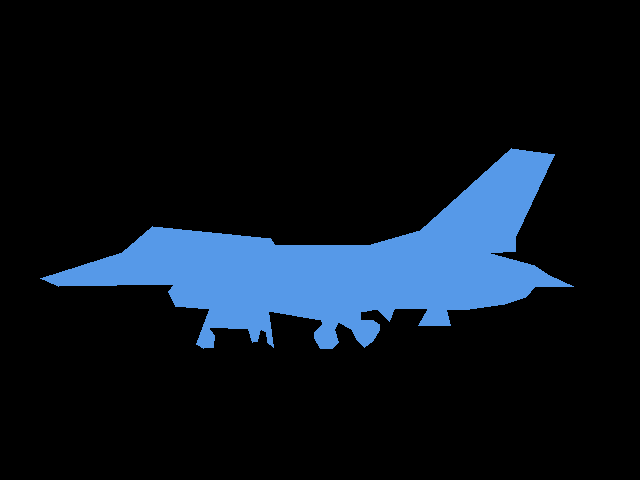Airplane: (40, 148, 573, 349)
